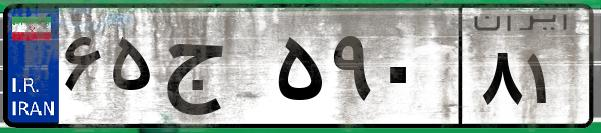0: (385, 28, 445, 110)
1: (525, 38, 570, 115)
5: (270, 28, 330, 110), (110, 28, 158, 98)
6: (57, 26, 110, 100)
8: (475, 38, 525, 113)
9: (330, 28, 385, 110)
ج: (158, 20, 270, 120)
